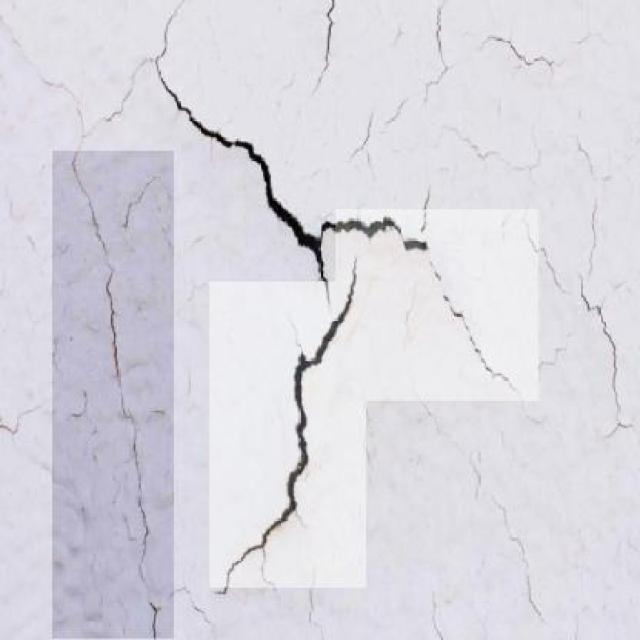Crack: (164, 75, 482, 578), (70, 162, 158, 637), (21, 0, 180, 150), (489, 484, 583, 640), (553, 293, 640, 443), (546, 126, 622, 274), (401, 582, 458, 640), (296, 582, 348, 640)
